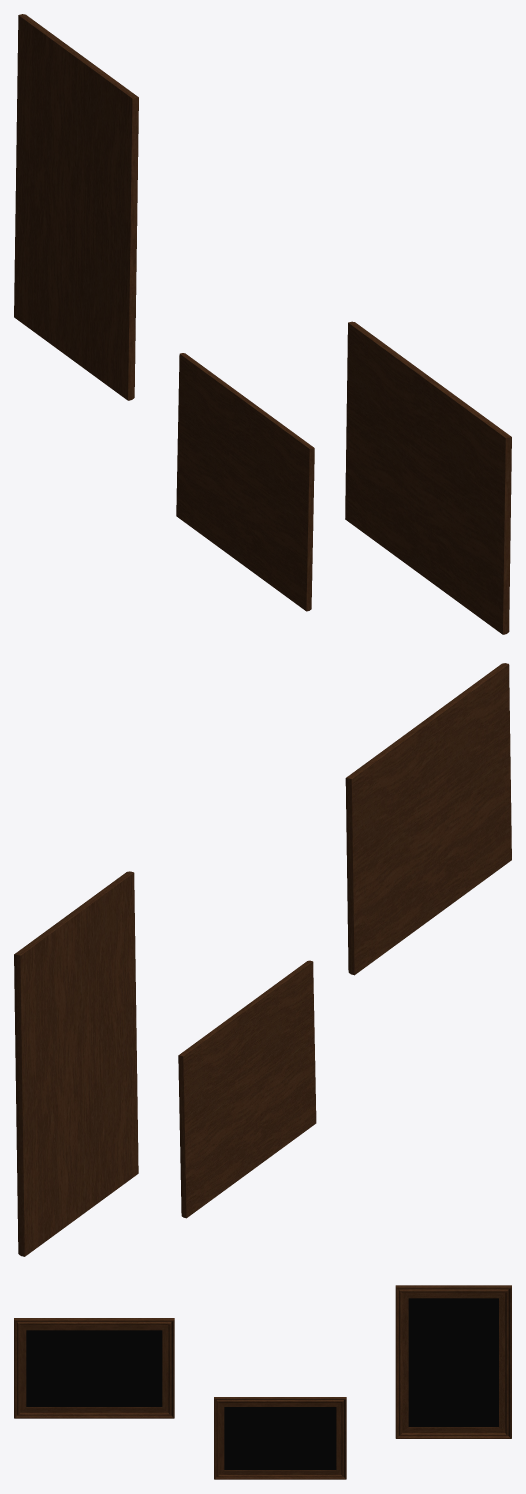
The picture shows the model from 3 angles, top to bottom: view 1: azimuth 30°, elevation 25°; view 2: azimuth 150°, elevation 25°; view 3: azimuth 270°, elevation 25°; orthographic projection. The views are drawn at different scales.
Parts seen in each view (by area): view 1: wall_picture_2, wall_picture_3, wall_picture_1; view 2: wall_picture_2, wall_picture_3, wall_picture_1; view 3: wall_picture_2, wall_picture_3, wall_picture_1.
Boxes of the visible parts, x1,y1,x2,y2 form: wall_picture_2: (14, 14, 138, 400); wall_picture_3: (345, 321, 511, 634); wall_picture_1: (176, 353, 314, 611); wall_picture_2: (14, 871, 138, 1256); wall_picture_3: (345, 663, 511, 975); wall_picture_1: (178, 960, 316, 1218); wall_picture_2: (395, 1285, 511, 1438); wall_picture_3: (14, 1318, 174, 1418); wall_picture_1: (214, 1397, 346, 1479).
Size of the model in its own units: 0.0259 by 0.7888 by 1.83.
Materials: 3 (3 with a texture image).
